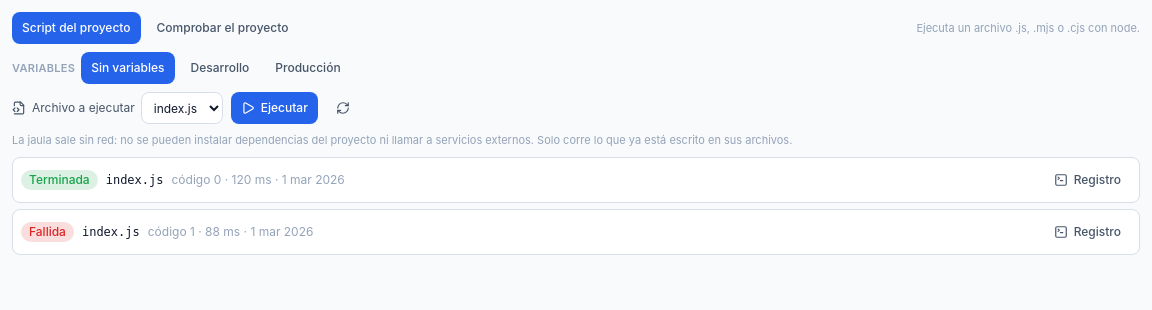
Test: RunsPanel › un servidor sin aislamiento lo dice con su aviso, sin fingir un resultado
Click the button "Ejecutar" at {"x": 274, "y": 108}, box [231,92,318,124]
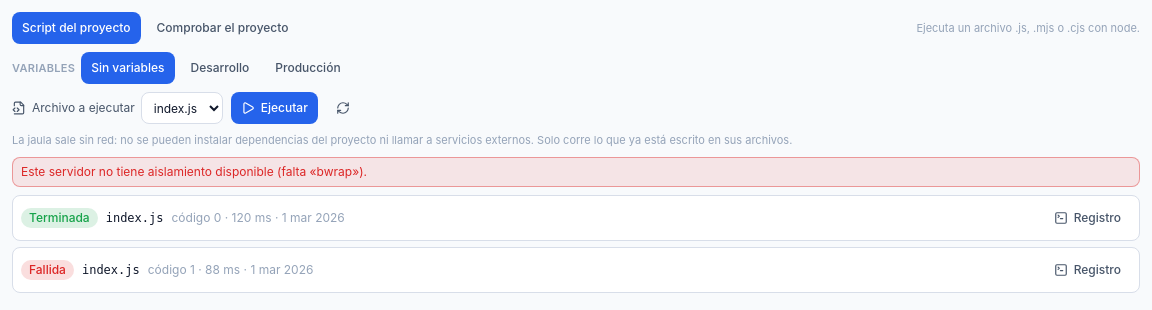
Result: the message shows "aislamiento" at [21,164,367,178]
